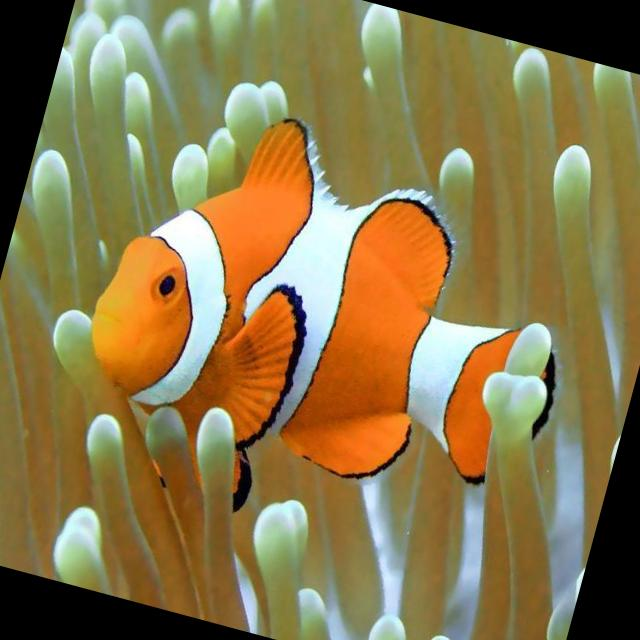ClownFish: (56, 81, 602, 580)
